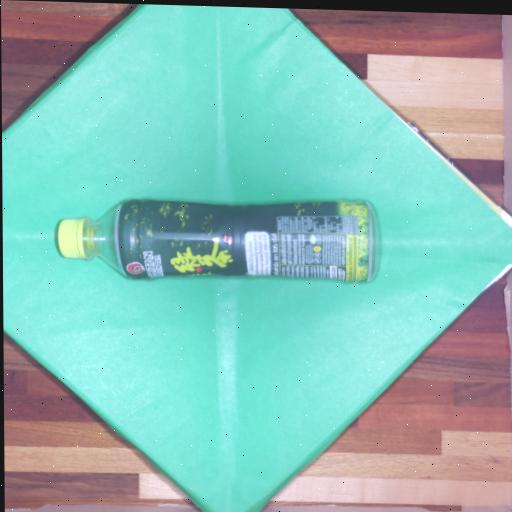bottle: (55, 195, 374, 289)
